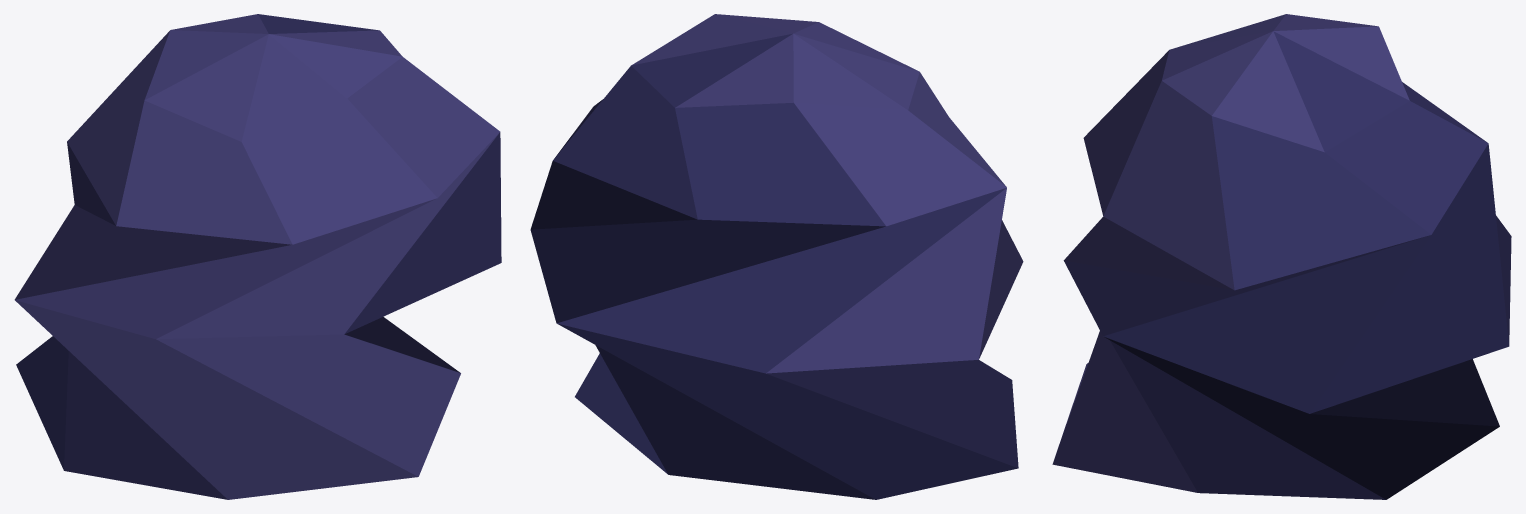
Rendered from rock-1.glb.
The picture shows the model from 3 angles, left to right: view 1: azimuth 30°, elevation 25°; view 2: azimuth 150°, elevation 25°; view 3: azimuth 270°, elevation 25°; orthographic projection. The views are drawn at different scales.
Visible parts, largest first — view 1: rock-1; view 2: rock-1; view 3: rock-1.
Part boxes in pixels (box(x1,y1,x2,y2)): rock-1: box(14, 14, 501, 499); rock-1: box(530, 14, 1023, 499); rock-1: box(1052, 14, 1511, 499).
Bounding box in the file's own units: 2.27 × 1.8 × 1.83.
